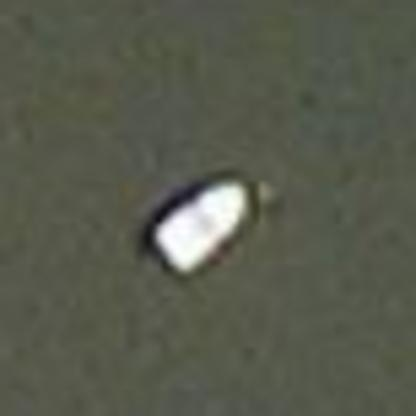ship: (138, 163, 280, 286)
